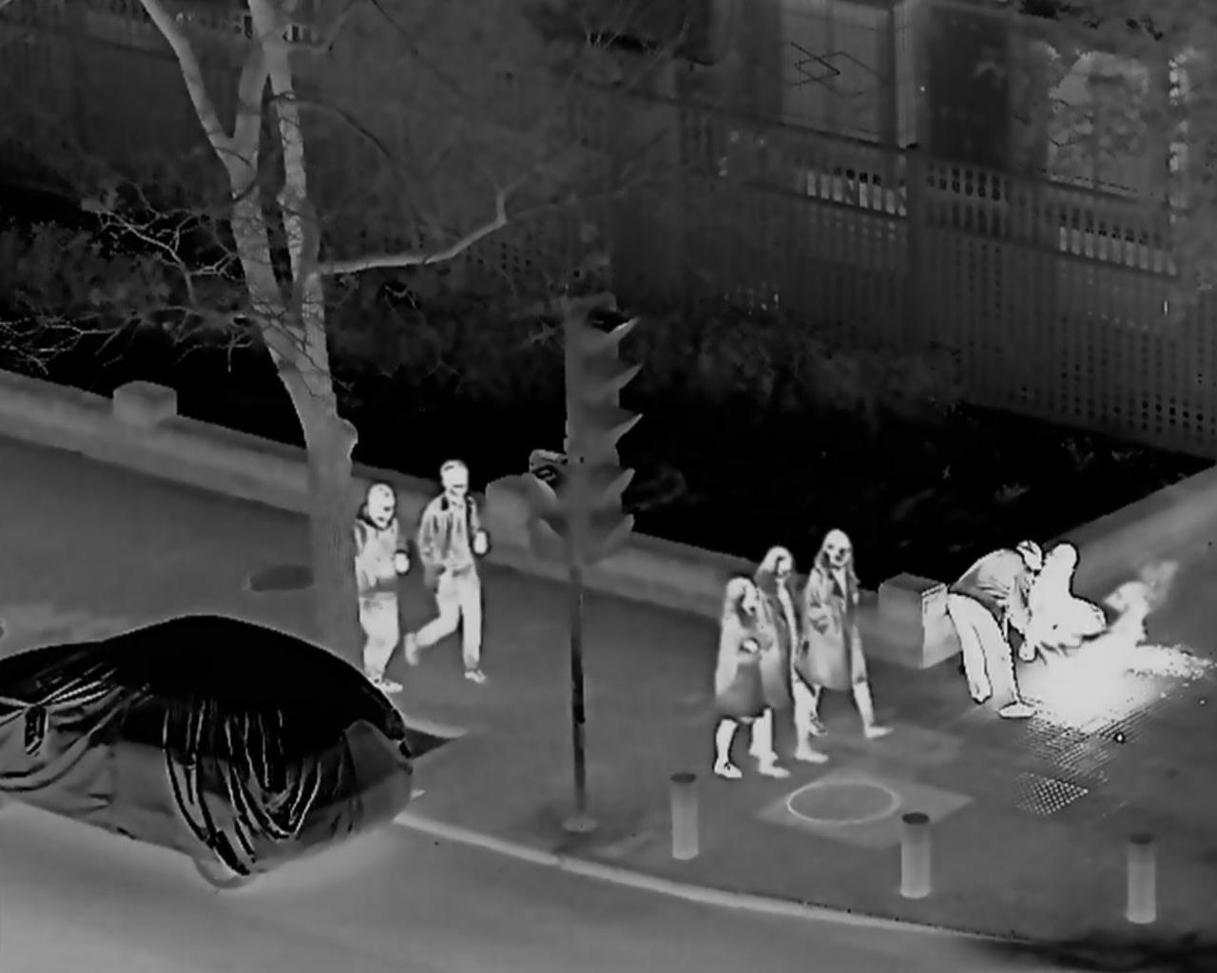person: (405, 461, 493, 692), (802, 532, 894, 742), (746, 549, 828, 765), (944, 542, 1041, 718), (712, 579, 788, 782), (344, 487, 411, 695), (1020, 538, 1108, 661)
